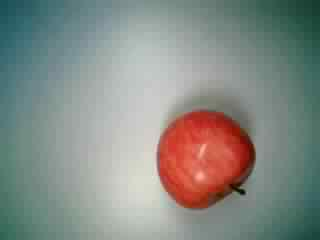apple: (153, 109, 257, 210)
